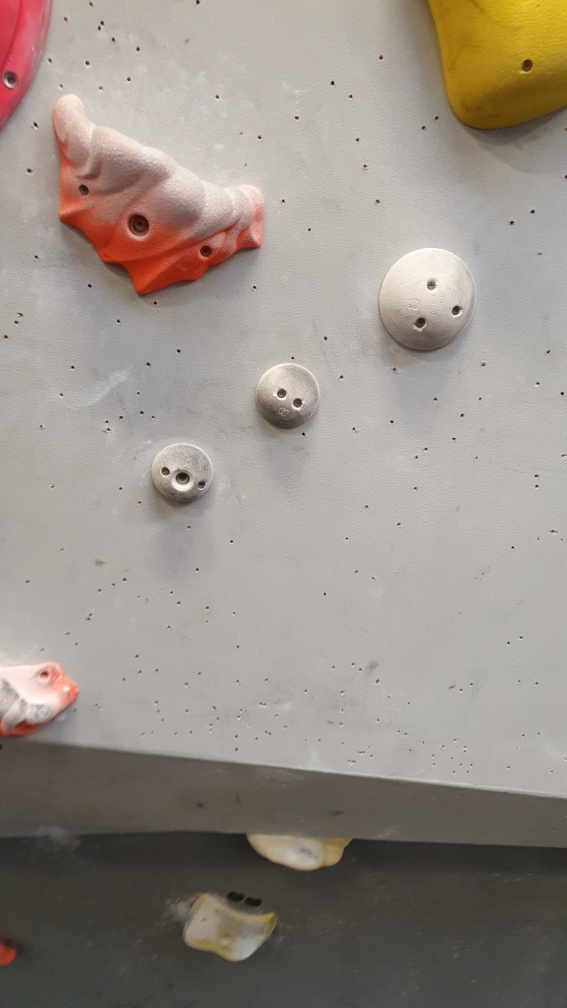Jug: (47, 88, 271, 300), (1, 651, 92, 732)
Sloper: (372, 243, 482, 359), (253, 360, 327, 432), (147, 439, 218, 508)
